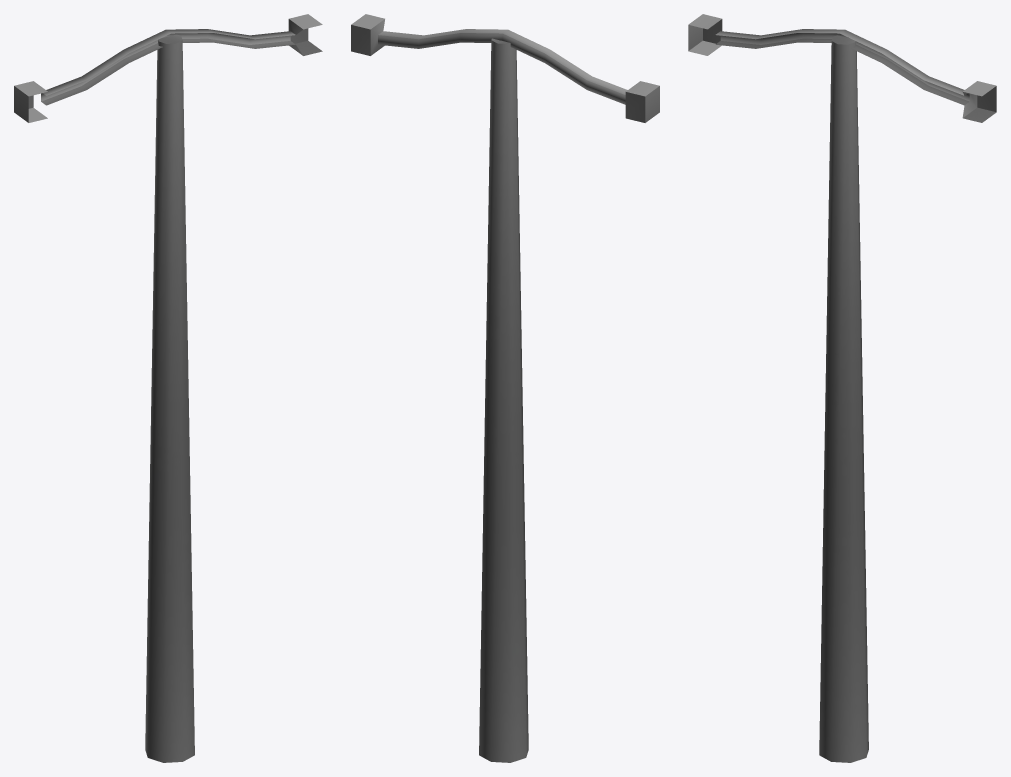
The model's file is Lamp.fbx.
3 renders of one model, left to right at view 1: azimuth 30°, elevation 25°; view 2: azimuth 150°, elevation 25°; view 3: azimuth 330°, elevation 25°, orthographic.
Visible parts, largest first — view 1: Circle; view 2: Circle; view 3: Circle.
Part boxes in pixels (x1,y1,x2,y2): Circle: [14, 14, 322, 762]; Circle: [351, 14, 659, 762]; Circle: [688, 14, 996, 762].
Bounding box in the file's own units: 158 × 370 × 23.93.
